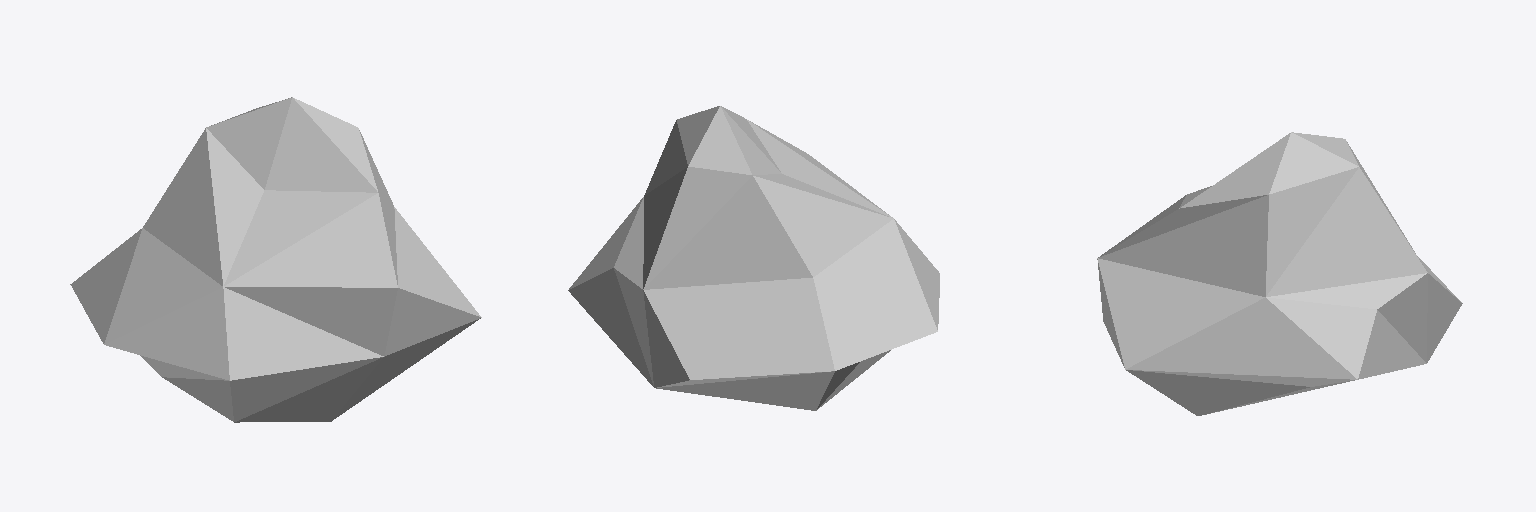
The model's file is Rock1.obj.
The picture shows the model from 3 angles: view 1: azimuth 30°, elevation 25°; view 2: azimuth 150°, elevation 25°; view 3: azimuth 270°, elevation 25°; orthographic projection.
Visible parts, largest first — view 1: pSphere1; view 2: pSphere1; view 3: pSphere1.
Boxes of the visible parts, x1,y1,x2,y2 form: pSphere1: [70, 97, 481, 422]; pSphere1: [568, 106, 939, 410]; pSphere1: [1097, 132, 1462, 415].
Size of the model in its own units: 2.77 by 2.37 by 2.72.